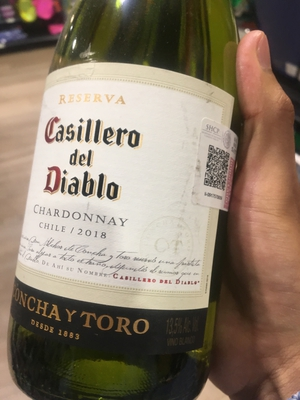casillero del diablo chardonnay: (7, 34, 237, 400)
